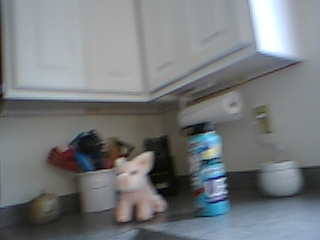piggy: (111, 150, 168, 224)
